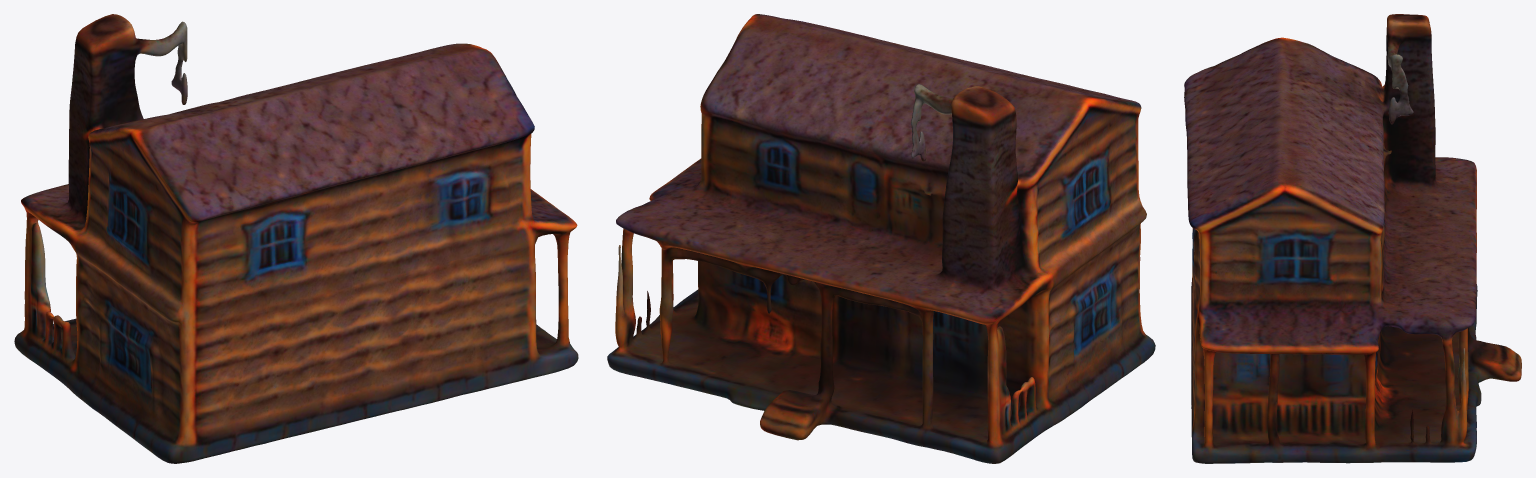
File: House2WildWest.fbx
The picture shows the model from 3 angles, left to right: view 1: azimuth 30°, elevation 25°; view 2: azimuth 150°, elevation 25°; view 3: azimuth 270°, elevation 25°; orthographic projection. The views are drawn at different scales.
Visible parts, largest first — view 1: geometry_0; view 2: geometry_0; view 3: geometry_0.
Part boxes in pixels (x1,y1,x2,y2): geometry_0: [14, 14, 578, 463]; geometry_0: [607, 14, 1155, 463]; geometry_0: [1184, 14, 1521, 463].
Size of the model in its own units: 4158 by 3232 by 3288.
Materials: 1 (1 with a texture image).
